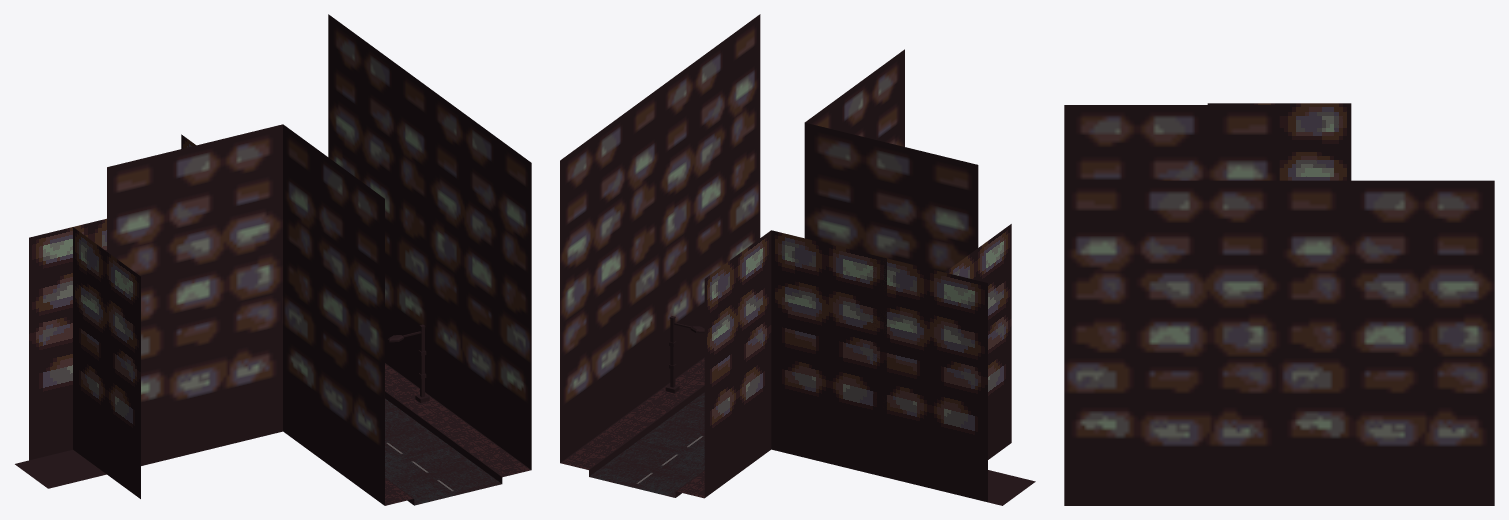
Rendered from Straight_1.fbx.
3 renders of one model, left to right at view 1: azimuth 30°, elevation 25°; view 2: azimuth 150°, elevation 25°; view 3: azimuth 270°, elevation 25°, orthographic. The views are drawn at different scales.
Visible parts, largest first — view 1: pPlane13, pPlane4, pPlane21, pPlane22, pPlane17, pPlane16, Road, Road1, pPlane15, pPlane6, pPlane18, pPlane19 (+1 smaller); view 2: pPlane22, pPlane21, pPlane14, pPlane16, pPlane13, pPlane8, pPlane17, pPlane4, Road3, Road2, pPlane19, pPlane20 (+3 smaller); view 3: pPlane21, pPlane22, pPlane4, pPlane17.
Boxes of the visible parts, bbox=[...] form: pPlane13: bbox=[107, 124, 282, 465]; pPlane4: bbox=[283, 124, 384, 505]; pPlane21: bbox=[430, 89, 531, 469]; pPlane22: bbox=[328, 14, 429, 395]; pPlane17: bbox=[73, 227, 140, 498]; pPlane16: bbox=[29, 218, 106, 460]; Road: bbox=[385, 447, 501, 505]; Road1: bbox=[385, 409, 450, 462]; pPlane15: bbox=[15, 450, 106, 488]; pPlane6: bbox=[452, 433, 531, 477]; pPlane18: bbox=[401, 396, 480, 439]; pPlane19: bbox=[385, 363, 429, 402]; pPlane22: bbox=[560, 87, 659, 462]; pPlane21: bbox=[660, 14, 760, 389]; pPlane14: bbox=[771, 230, 886, 477]; pPlane16: bbox=[872, 256, 987, 502]; pPlane13: bbox=[804, 122, 978, 272]; pPlane8: bbox=[704, 230, 771, 497]; pPlane17: bbox=[945, 224, 1011, 459]; pPlane4: bbox=[805, 49, 904, 146]; Road3: bbox=[589, 440, 704, 497]; Road2: bbox=[639, 403, 704, 456]; pPlane19: bbox=[610, 390, 688, 433]; pPlane20: bbox=[560, 426, 638, 469]; pPlane21: bbox=[1064, 180, 1279, 505]; pPlane22: bbox=[1279, 180, 1494, 505]; pPlane4: bbox=[1064, 105, 1279, 180]; pPlane17: bbox=[1207, 103, 1351, 180].
Bounding box in the file's own units: 26 × 20.44 × 24.
6 materials, 6 textured.
